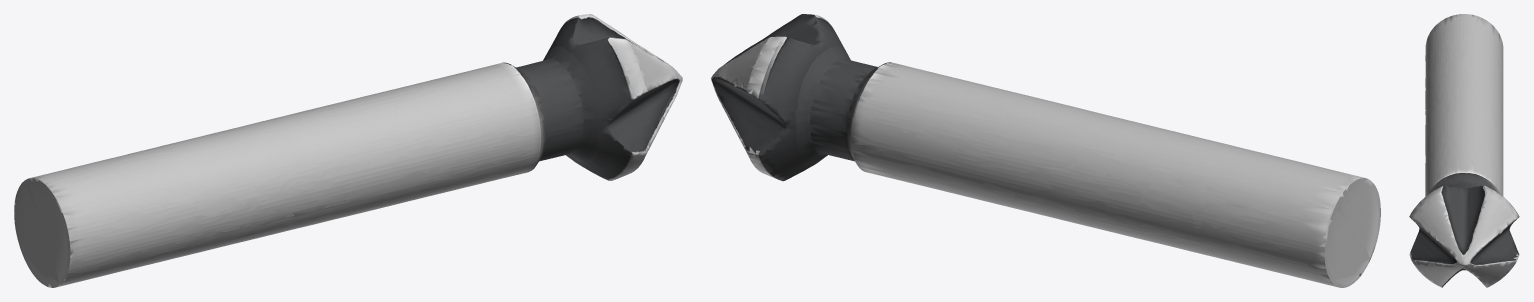
The model's file is tool_111.obj.
The picture shows the model from 3 angles, left to right: view 1: azimuth 30°, elevation 25°; view 2: azimuth 150°, elevation 25°; view 3: azimuth 270°, elevation 25°; orthographic projection. The views are drawn at different scales.
Visible parts, largest first — view 1: tool_111_tripo_normalized; view 2: tool_111_tripo_normalized; view 3: tool_111_tripo_normalized.
Boxes of the visible parts, x1=… form: tool_111_tripo_normalized: x1=14, y1=14, x2=682, y2=287; tool_111_tripo_normalized: x1=711, y1=14, x2=1380, y2=287; tool_111_tripo_normalized: x1=1409, y1=14, x2=1519, y2=287.
Size of the model in its own units: 96.21 by 20.7 by 20.76.
1 material, 1 textured.
